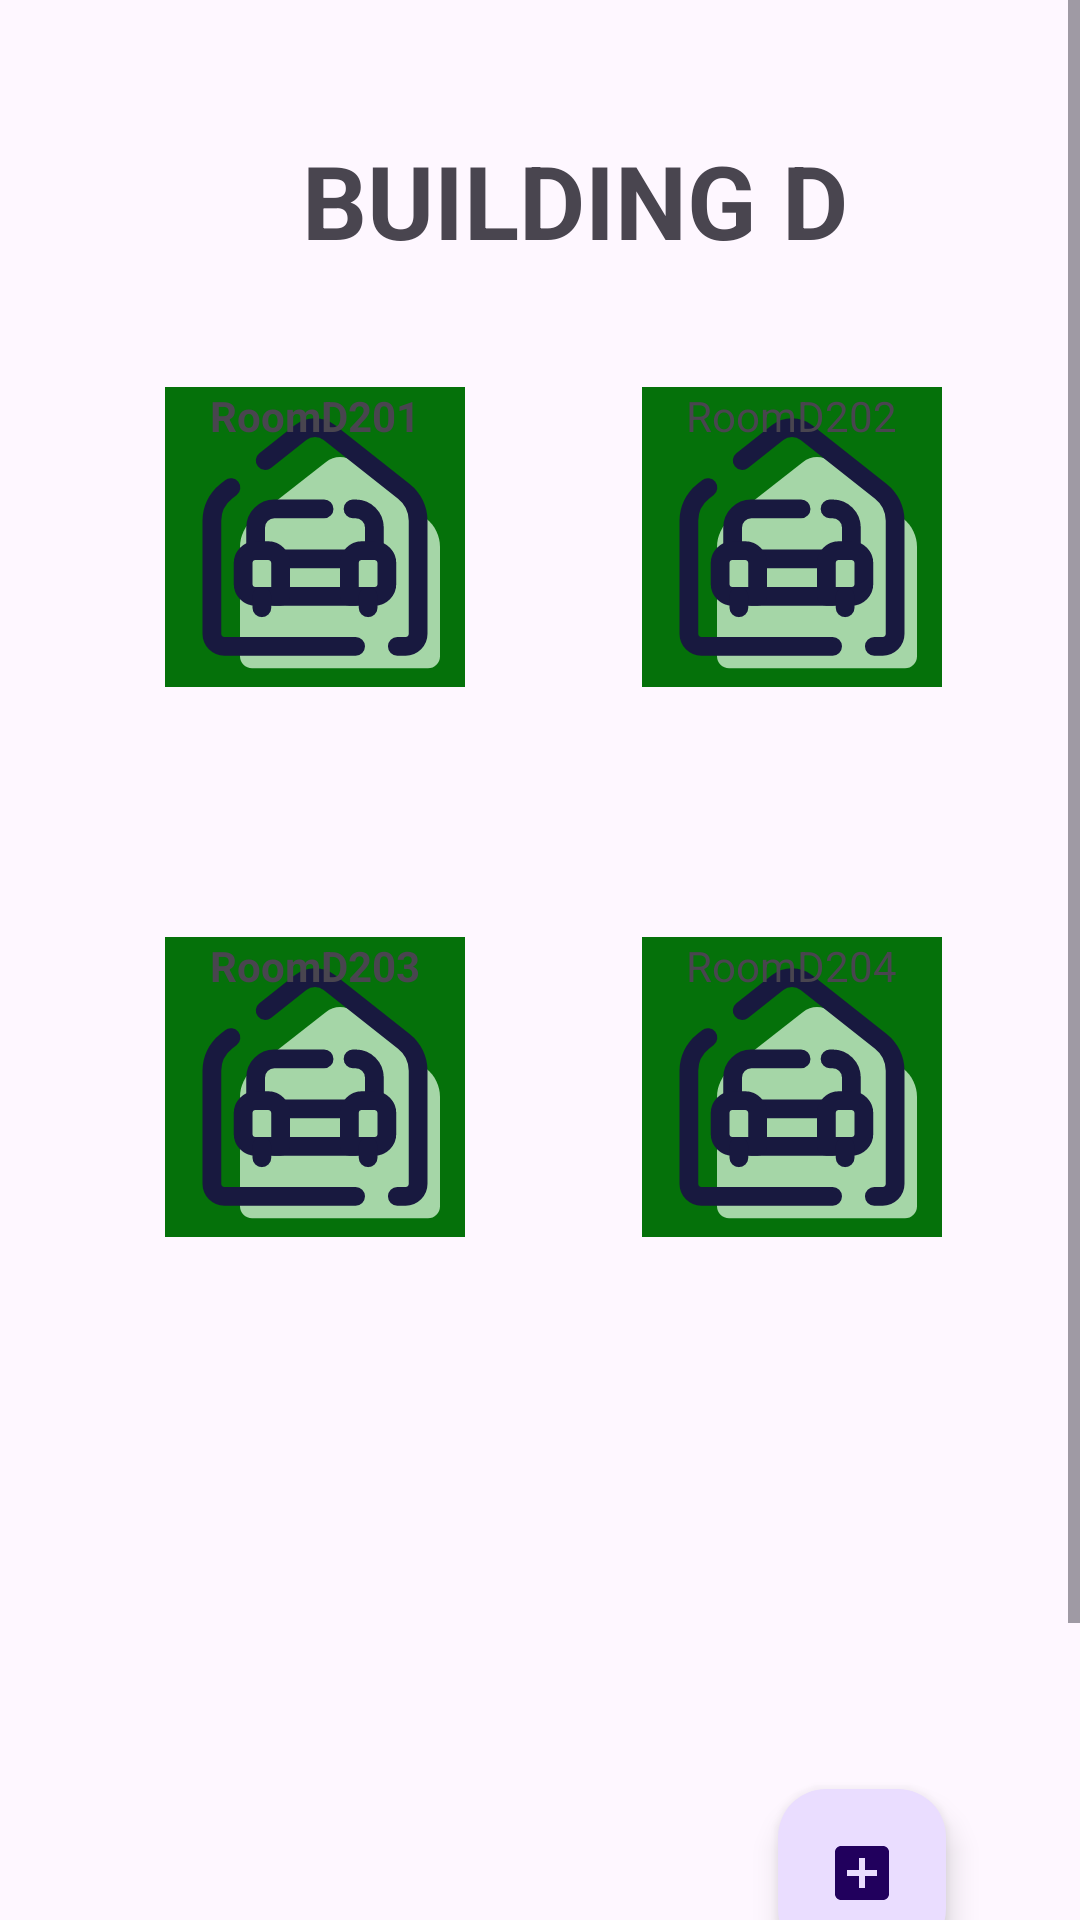

Icons on this 1080px x 1920px Android screen, each with the point to tap as (x,y):
Room 1: (315,537)
Room 2: (792,537)
Room 3: (315,1087)
Room 4: (792,1087)
